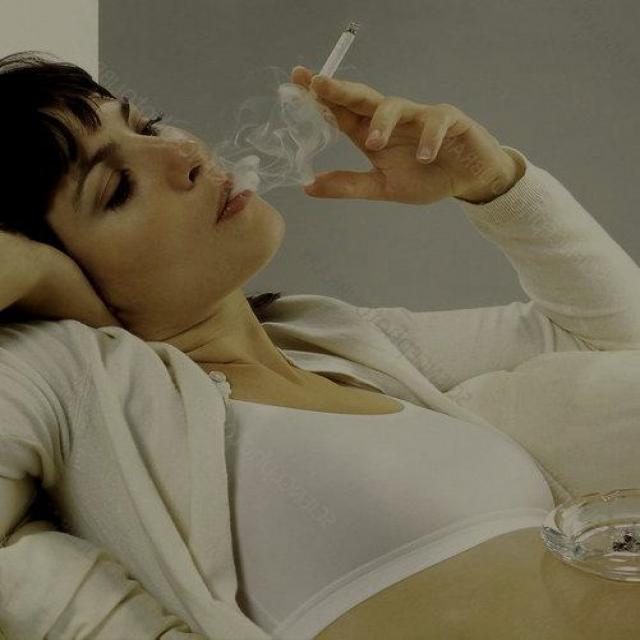smoke: (257, 16, 369, 177)
